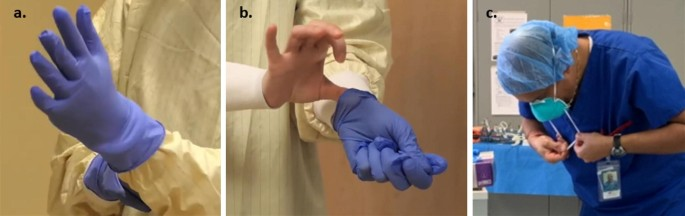Gloves: (28, 3, 164, 165), (327, 85, 449, 193)
